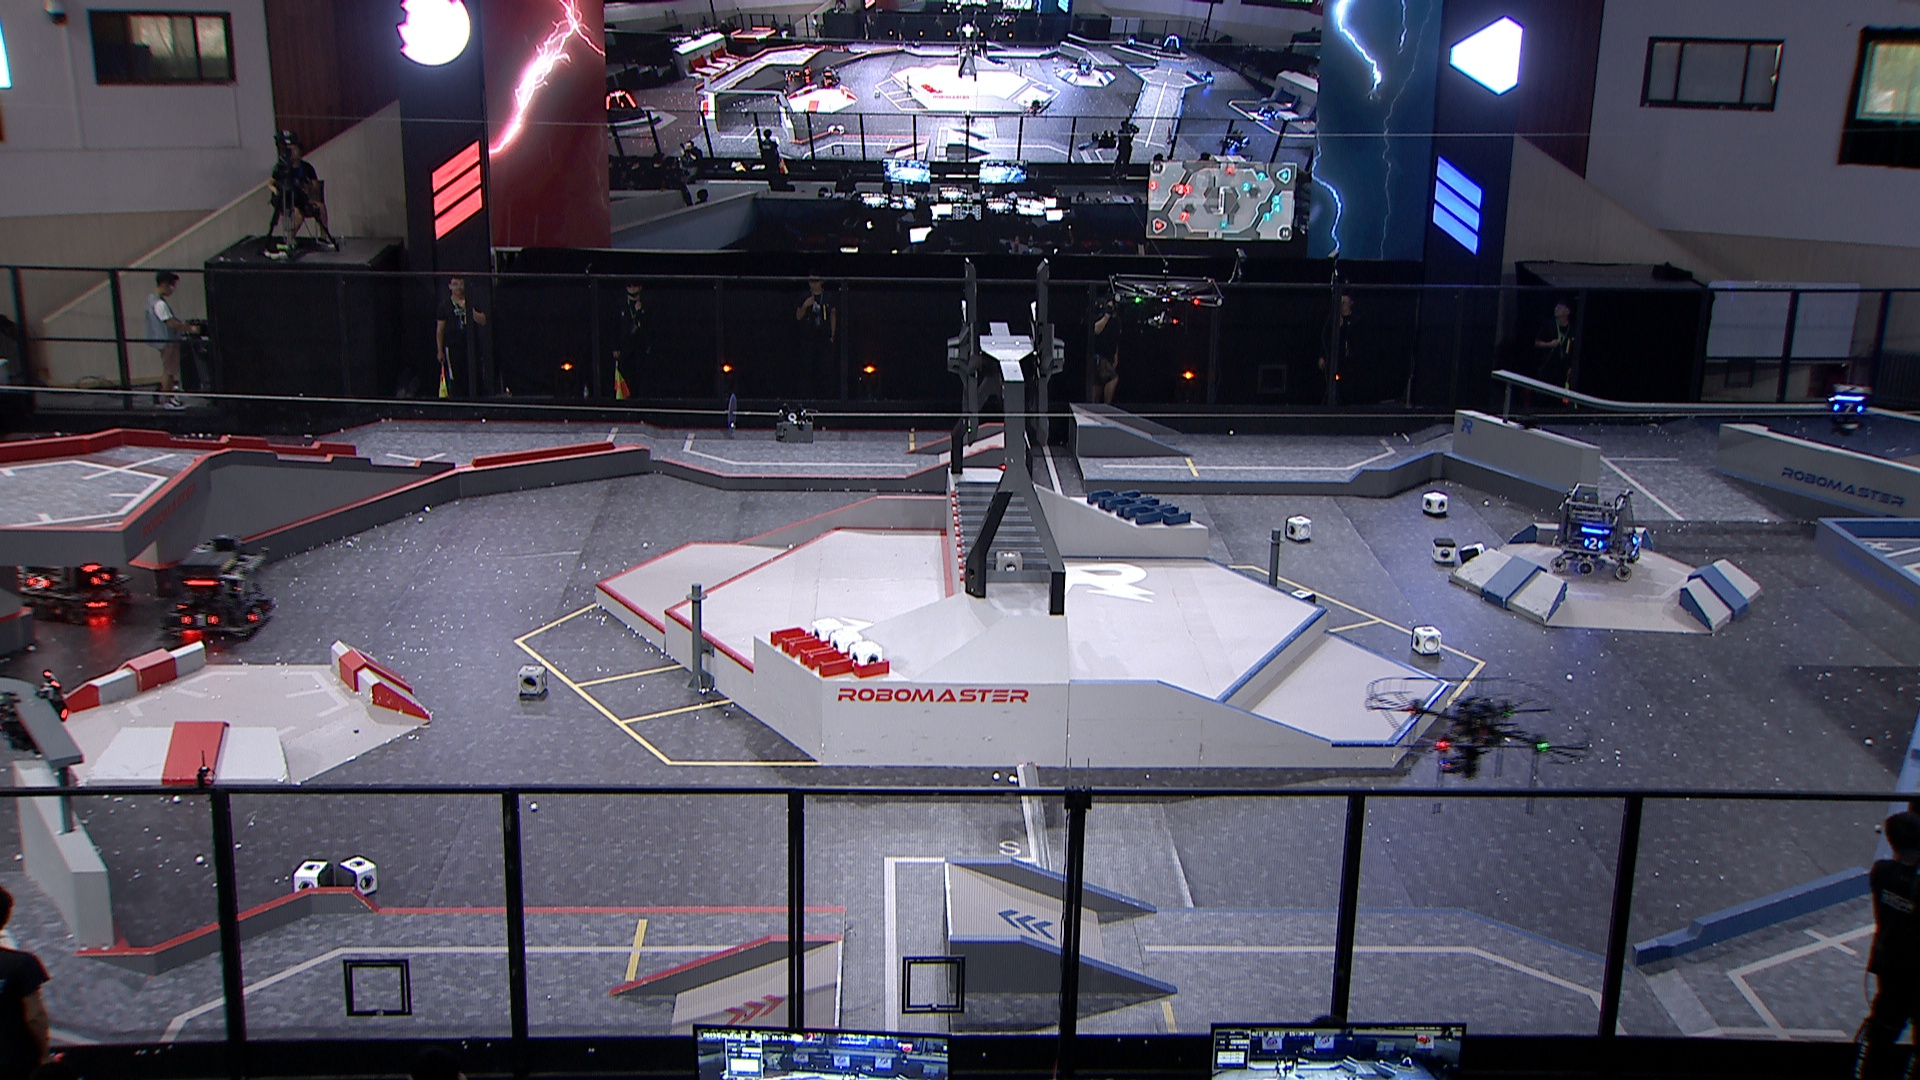armor: (182, 608, 220, 629), (245, 597, 273, 624), (1832, 400, 1865, 418), (24, 572, 51, 591), (88, 567, 111, 589), (177, 591, 196, 612), (1582, 534, 1604, 551)
car: (167, 538, 277, 647), (15, 524, 131, 621), (1544, 480, 1643, 584)
ignore: (604, 87, 646, 125), (816, 63, 844, 91), (1225, 127, 1251, 150), (1156, 32, 1183, 54), (1254, 98, 1280, 120), (1073, 55, 1096, 76), (789, 63, 811, 83)
watcher: (1826, 378, 1870, 438)
